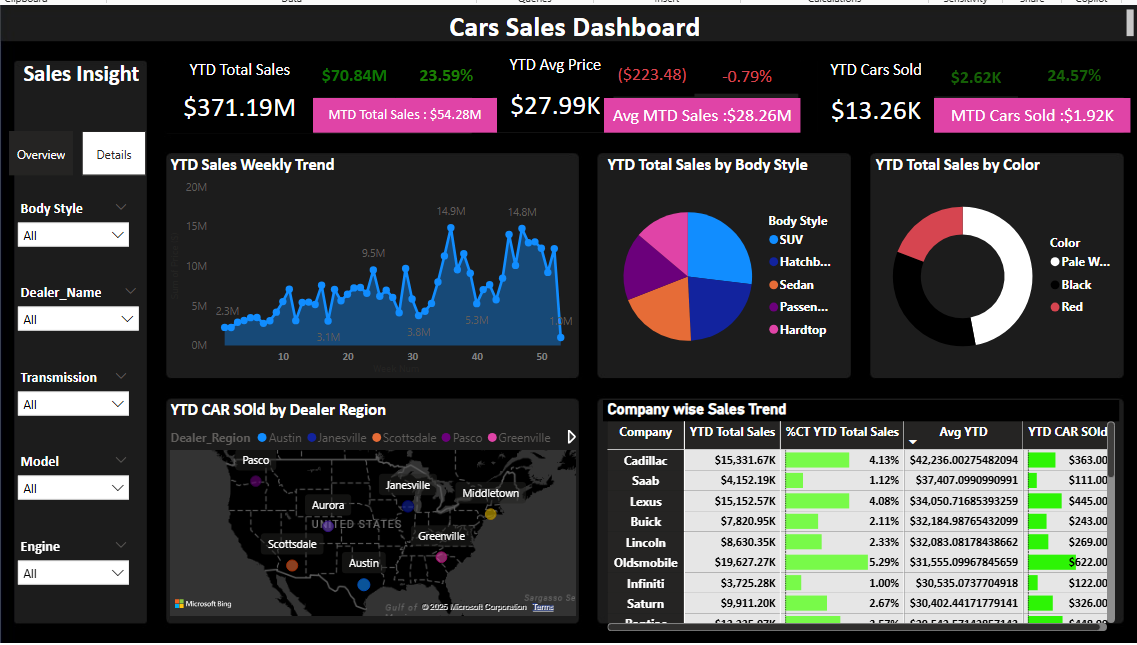

This screenshot's page, from the dashboard's own definition file:
{"tool":"powerbi","page":{"name":"Overview","canvas":[1280,720],"ordinal":0},"visuals":[{"type":"card","title":"YTD Total Sales","fields":{"Values":["Calender Date.YTD Total Sales"]},"box":[186.3,60.4,165.8,83.5],"z":0},{"type":"card","title":"Diff","fields":{"Values":["Calender Date.Sales Difference(YTD-PYTD)"]},"box":[351.6,54.5,93.3,50.2],"z":1000},{"type":"card","title":"Diff","fields":{"Values":["Calender Date.YOY Growth"]},"box":[444.8,54.5,114.8,50.2],"z":2000},{"type":"card","fields":{"Values":["Car Sales_Measures.MTD Concat"]},"box":[352.1,104.9,207.1,38.7],"z":3000},{"type":"card","title":"YTD Avg Price","fields":{"Values":["Car Sales_Measures.Avg YTD"]},"box":[559.2,55.2,131.2,88.4],"z":4000},{"type":"card","fields":{"Values":["Car Sales_Measures.Avg Price YOY Growth"]},"box":[780.6,60.3,119.1,38.7],"z":5000},{"type":"card","fields":{"Values":["Car Sales_Measures.Avg MTD Concat"]},"box":[679.4,104.9,220.9,38.7],"z":6000},{"type":"card","fields":{"Values":["Car Sales_Measures.Avg price sales diff"]},"box":[685.9,54.5,94.7,48.8],"z":7000},{"type":"card","title":"YTD Cars Sold","fields":{"Values":["3_Car Metrix Measures.YTD CAR SOld"]},"box":[919.8,60.3,130.6,89],"z":8000},{"type":"card","fields":{"Values":["3_Car Metrix Measures.MTD Car sold concat"]},"box":[1050.4,104.8,221,38.7],"z":9000},{"type":"card","fields":{"Values":["3_Car Metrix Measures.Cars Sold Sales diff"]},"box":[1050.4,60.3,94.7,41.6],"z":10000},{"type":"card","fields":{"Values":["3_Car Metrix Measures.Cars Sold YOY Growth"]},"box":[1145.1,54.5,126.3,50.2],"z":11000},{"type":"areaChart","title":"YTD Sales Weekly Trend","fields":{"Category":["Calender Date.Week Num"],"Y":["Sum(car_data.Price ($))"]},"box":[186.5,167.9,466.4,252.6],"z":12000},{"type":"pieChart","fields":{"Y":["1_Total Sales Measures.YTD Total Sales"],"Category":["car_data.Body Style"]},"box":[678.7,167.9,279.8,252.6],"z":13000},{"type":"donutChart","fields":{"Y":["1_Total Sales Measures.YTD Total Sales"],"Category":["car_data.Color"]},"box":[980.1,167.9,291.3,252.6],"z":14000},{"type":"map","title":"YTD CAR SOld by Dealer Region","fields":{"Size":["3_Car Metrix Measures.YTD CAR SOld"],"Category":["car_data.Dealer_Region"],"Series":["car_data.Dealer_Region"]},"box":[186.5,443.4,466.4,249.7],"z":15000},{"type":"textbox","box":[21.4,0,1258.6,44.2],"z":16000},{"type":"slicer","fields":{"Values":["car_data.Body Style"]},"box":[10.7,213.6,144.9,80.9],"z":17000},{"type":"textbox","title":"Sales Insight","box":[21.8,61.7,145.2,37.3],"z":18000},{"type":"pivotTable","title":"Company wise Sales Trend","fields":{"Rows":["car_data.Company"],"Values":["1_Total Sales Measures.YTD Total Sales1","1_Total Sales Measures.YTD Total Sales","2_Avg Price Measures.Avg YTD","3_Car Metrix Measures.YTD CAR SOld"]},"box":[678.9,444,581.3,265.5],"z":19000},{"type":"slicer","fields":{"Values":["car_data.Dealer_Name"]},"box":[10.7,308.6,155.6,80.9],"z":20000},{"type":"slicer","fields":{"Values":["car_data.Transmission"]},"box":[10.7,403.5,144.9,80.9],"z":21000},{"type":"slicer","fields":{"Values":["car_data.Model"]},"box":[10.7,498.5,144.9,80.9],"z":22000},{"type":"slicer","fields":{"Values":["car_data.Engine"]},"box":[10.7,593.5,144.9,80.9],"z":23000},{"type":"pageNavigator","box":[10.7,141.9,155.6,50.3],"z":24000}]}

Visuals, with their boxes on the page's 1280x720 design canvas (x1, y1, x2, y2). These are canvas units, not pixel positions in the 1137x645 screenshot, which may show the page scaled, cropped or inside an application window:
"YTD Total Sales" card: box=[186, 60, 352, 144]
"Diff" card: box=[352, 54, 445, 105]
"Diff" card: box=[445, 54, 560, 105]
card - Car Sales_Measures.MTD Concat: box=[352, 105, 559, 144]
"YTD Avg Price" card: box=[559, 55, 690, 144]
card - Car Sales_Measures.Avg Price YOY Growth: box=[781, 60, 900, 99]
card - Car Sales_Measures.Avg MTD Concat: box=[679, 105, 900, 144]
card - Car Sales_Measures.Avg price sales diff: box=[686, 54, 781, 103]
"YTD Cars Sold" card: box=[920, 60, 1050, 149]
card - 3_Car Metrix Measures.MTD Car sold concat: box=[1050, 105, 1271, 144]
card - 3_Car Metrix Measures.Cars Sold Sales diff: box=[1050, 60, 1145, 102]
card - 3_Car Metrix Measures.Cars Sold YOY Growth: box=[1145, 54, 1271, 105]
"YTD Sales Weekly Trend" areaChart: box=[186, 168, 653, 420]
pieChart - 1_Total Sales Measures.YTD Total Sales x car_data.Body Style: box=[679, 168, 958, 420]
donutChart - 1_Total Sales Measures.YTD Total Sales x car_data.Color: box=[980, 168, 1271, 420]
"YTD CAR SOld by Dealer Region" map: box=[186, 443, 653, 693]
textbox: box=[21, 0, 1280, 44]
slicer - car_data.Body Style: box=[11, 214, 156, 294]
"Sales Insight" textbox: box=[22, 62, 167, 99]
"Company wise Sales Trend" pivotTable: box=[679, 444, 1260, 710]
slicer - car_data.Dealer_Name: box=[11, 309, 166, 390]
slicer - car_data.Transmission: box=[11, 404, 156, 484]
slicer - car_data.Model: box=[11, 498, 156, 579]
slicer - car_data.Engine: box=[11, 594, 156, 674]
pageNavigator: box=[11, 142, 166, 192]
